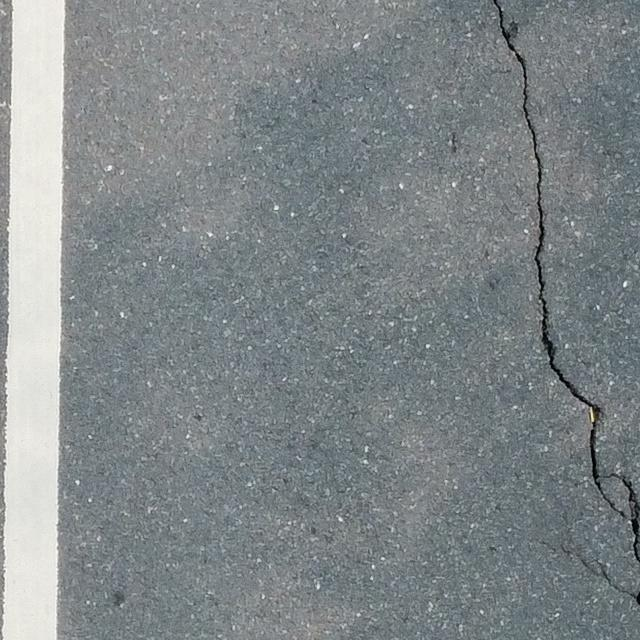LongitudinalCrack: (493, 1, 638, 564)
